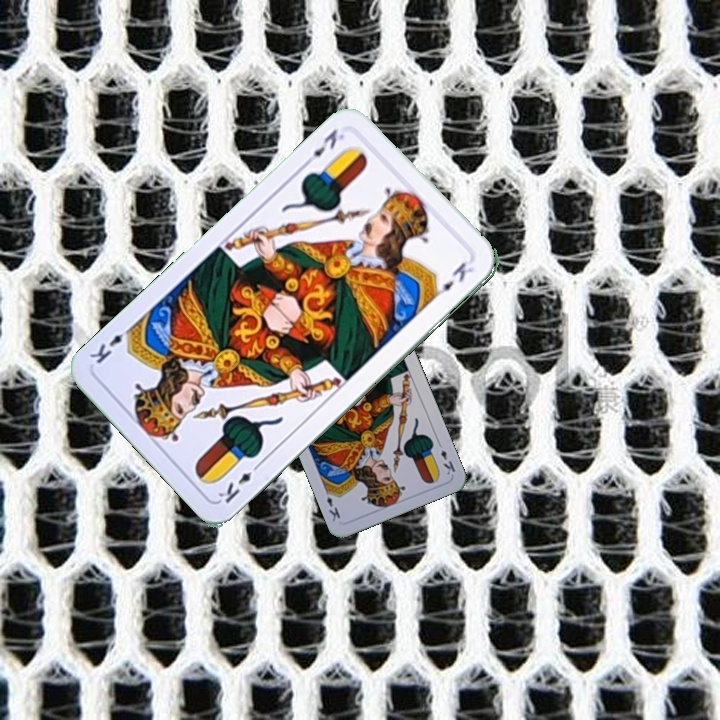EK: (214, 458, 264, 506), (300, 125, 347, 169), (433, 437, 458, 478)
